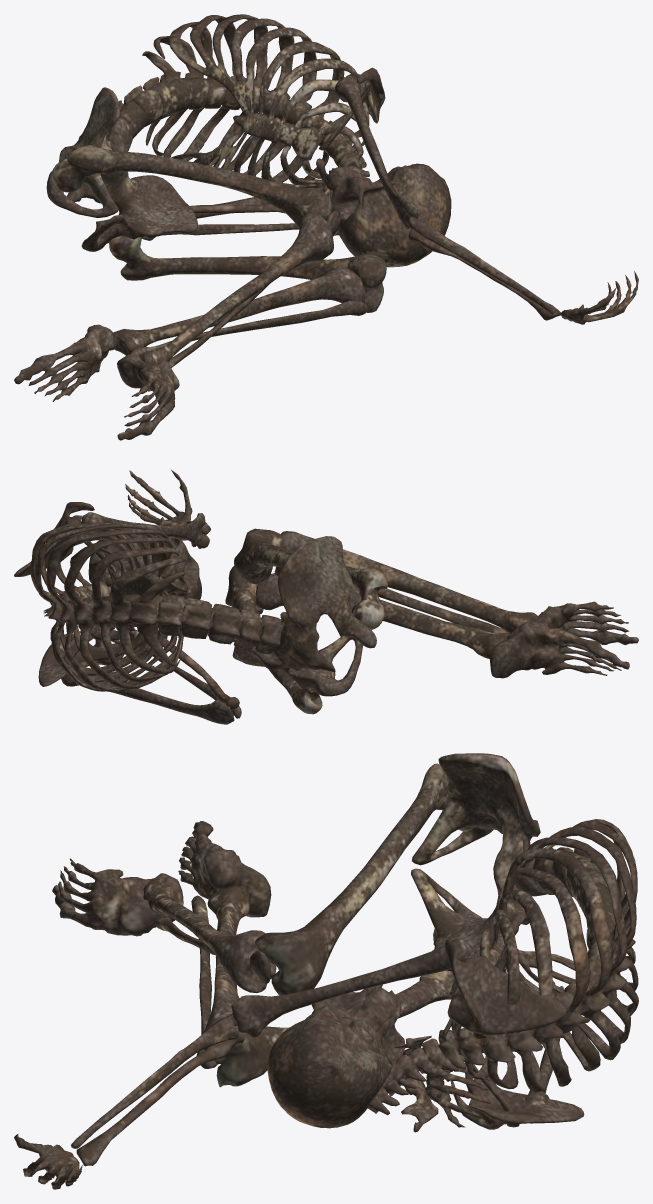
The model's file is SM_Skeleton_05.glb.
3 renders of one model, top to bottom at view 1: azimuth 30°, elevation 25°; view 2: azimuth 150°, elevation 25°; view 3: azimuth 270°, elevation 25°, orthographic. The views are drawn at different scales.
Parts seen in each view (by area): view 1: SM_Skeleton_05; view 2: SM_Skeleton_05; view 3: SM_Skeleton_05.
Boxes of the visible parts, x1,y1,x2,y2 form: SM_Skeleton_05: [14, 14, 638, 440]; SM_Skeleton_05: [14, 470, 638, 724]; SM_Skeleton_05: [14, 753, 638, 1189].
Size of the model in its own units: 1.23 by 0.4061 by 0.9312.
Materials: 1 (1 with a texture image).
